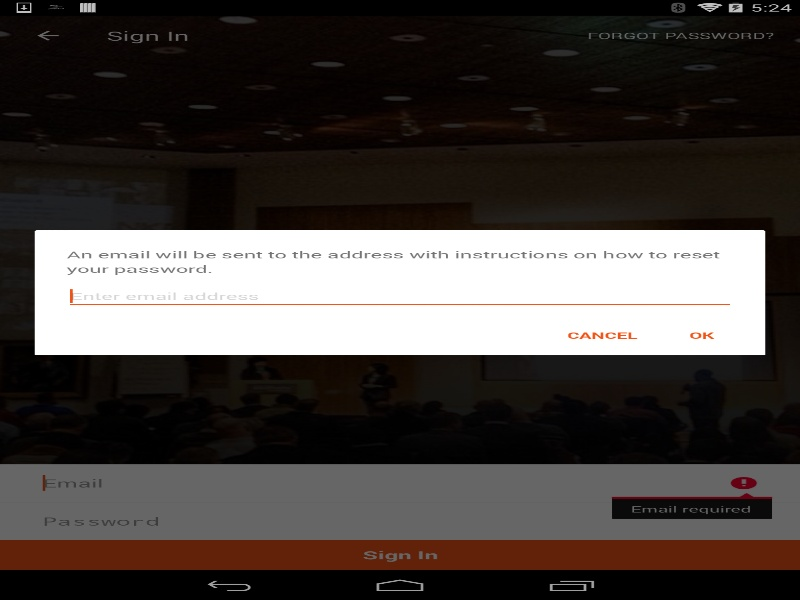Input: (64, 283, 735, 309)
